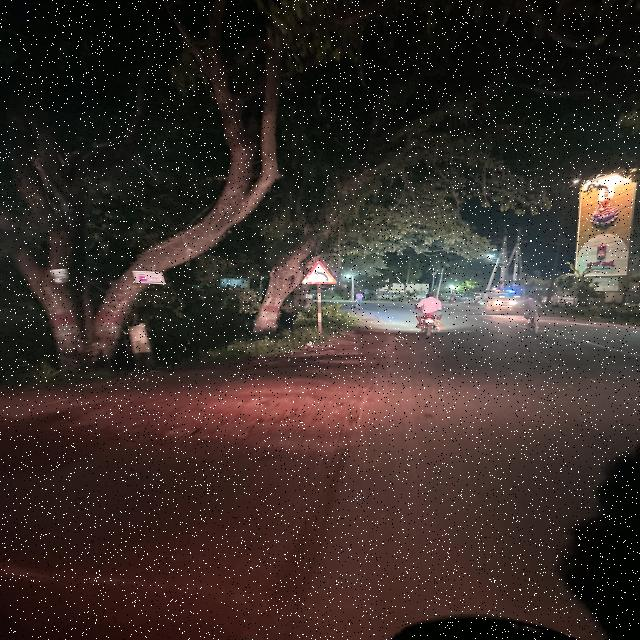left_hand_curve: (301, 258, 336, 286)
